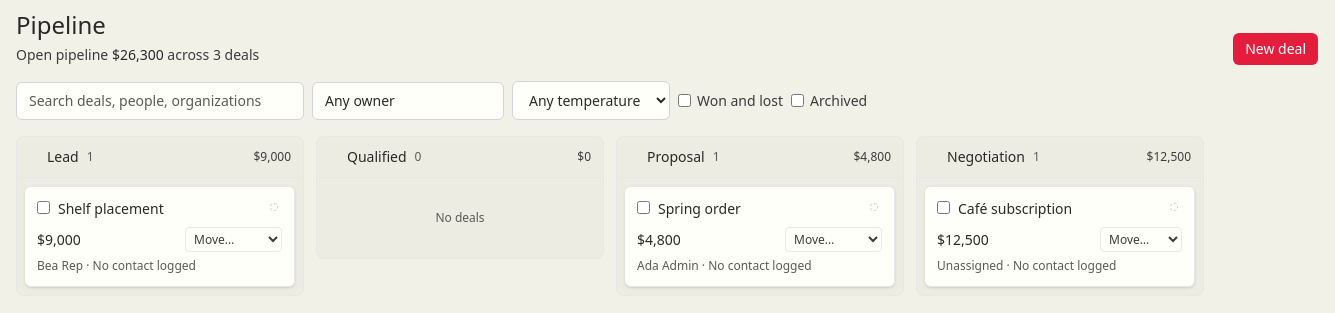
Test: pipeline board › filters by owner: Mine, Unassigned, or anyone found by typing
The image size is (1335, 313).
Check: the link "Spring order" is shown, box 658,199 -> 741,218
Focus the 1st dropdown named "Owner" at (408, 100), box 312,82 -> 504,120
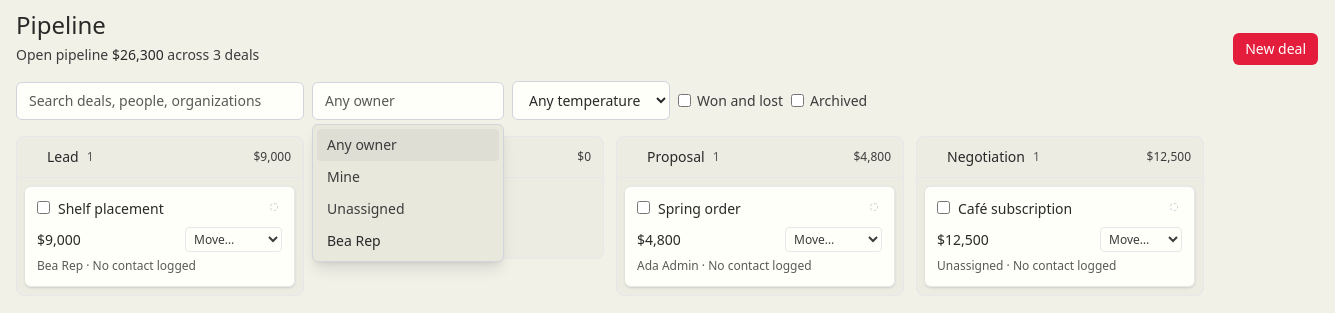
Check: the option "Bea Rep" is shown, box 327,230 -> 381,250
Check: the options read "Any owner", "Mine", "Unassigned", "Bea Rep", in this order
Click the option "Unassigned" at (366, 208), box 327,198 -> 404,218
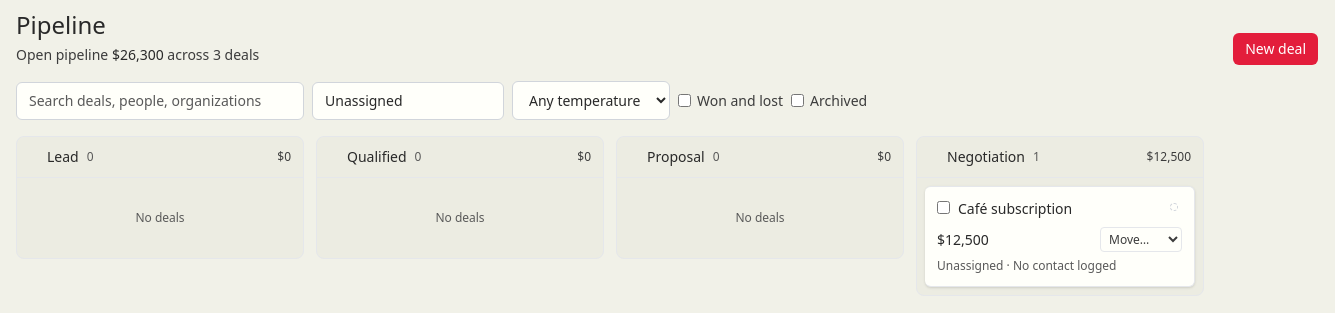
Check: the link "Café subscription" is shown, box 958,199 -> 1072,218
Check: the link "Spring order" is gone
Replace the text in the 1st dropdown named "Owner" with "bea" at (408, 100), box 312,82 -> 504,120
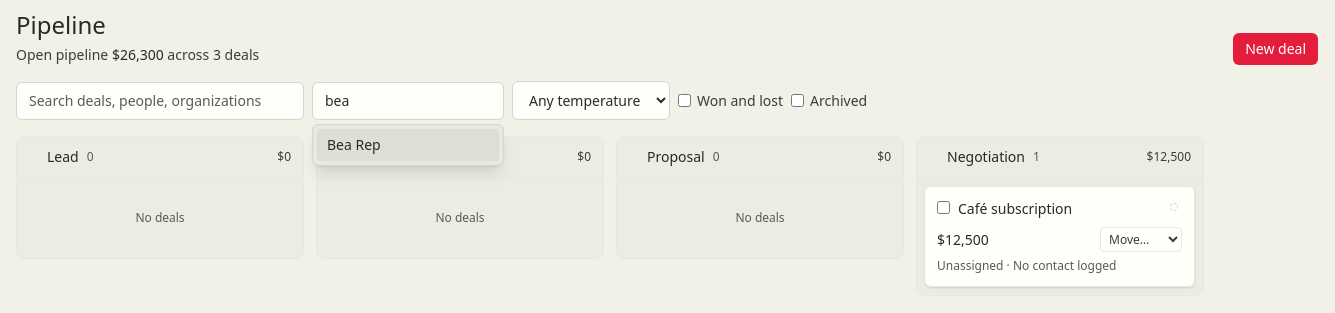
Click the option "Bea Rep" at (408, 144), box 317,128 -> 499,160
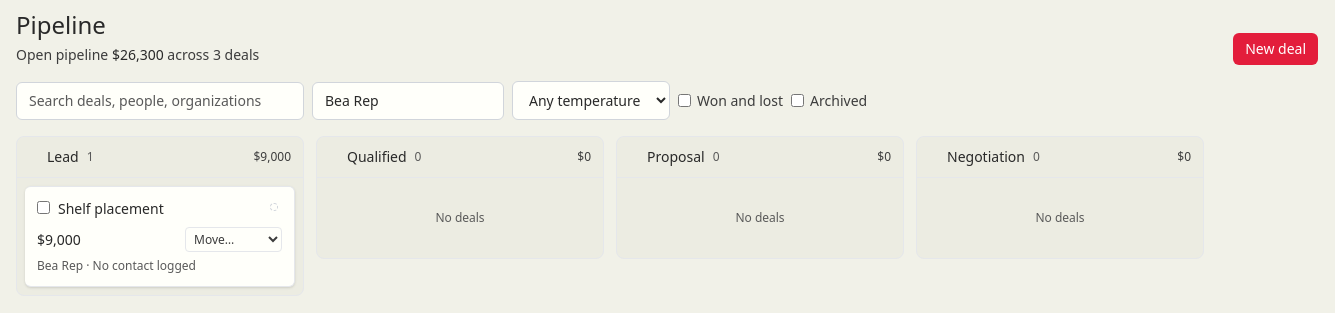
Check: the 1st dropdown named "Owner" holds "Bea Rep", box 312,82 -> 504,120
Check: the link "Shelf placement" is shown, box 58,199 -> 164,218
Check: the link "Café subscription" is gone
